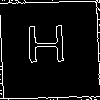H: (24, 25, 68, 72)
